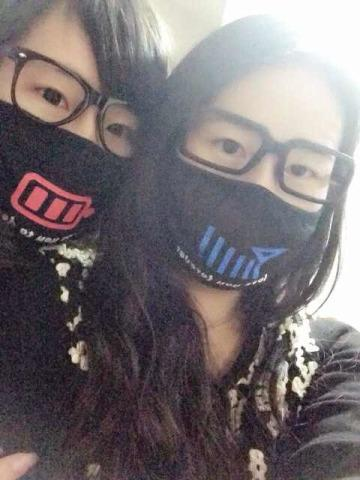face_mask: (171, 67, 335, 287), (1, 12, 147, 259)
